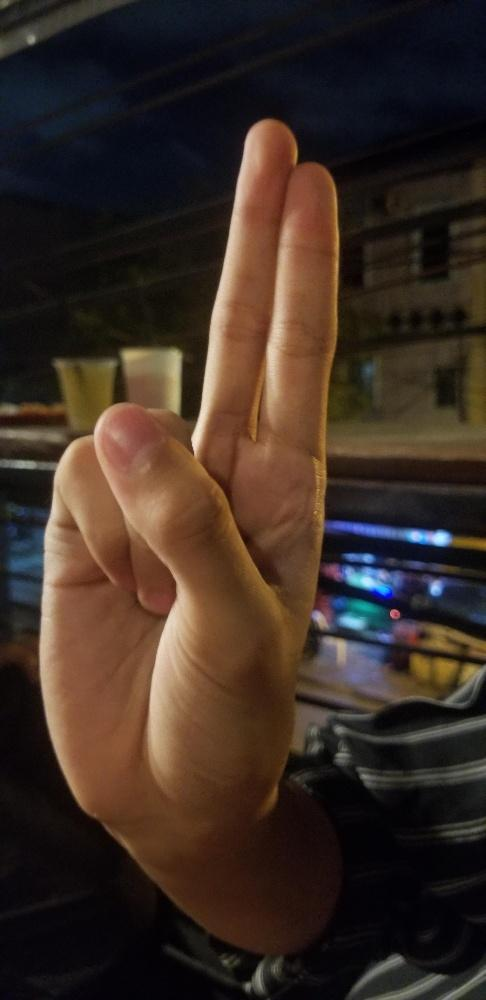u: (36, 111, 340, 829)
